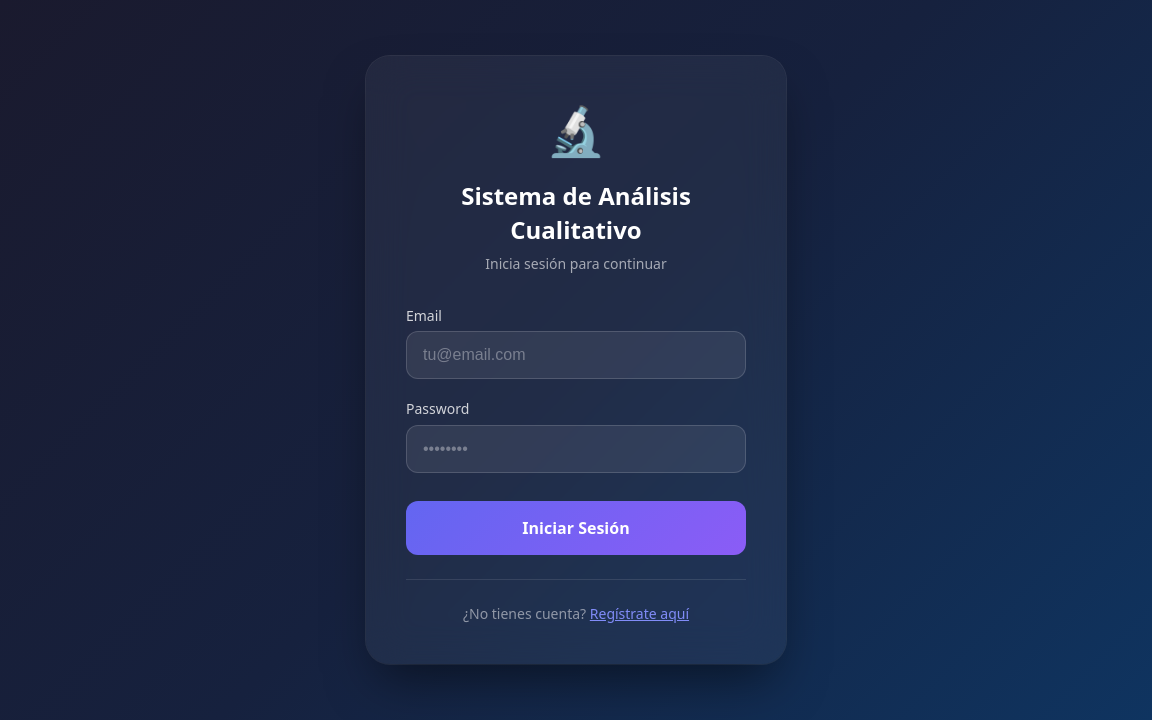
Test: AuthPage › prevents submission during loading
Type "test@example.com" into the field labelled "Email" at (576, 356), box [406, 332, 746, 380]
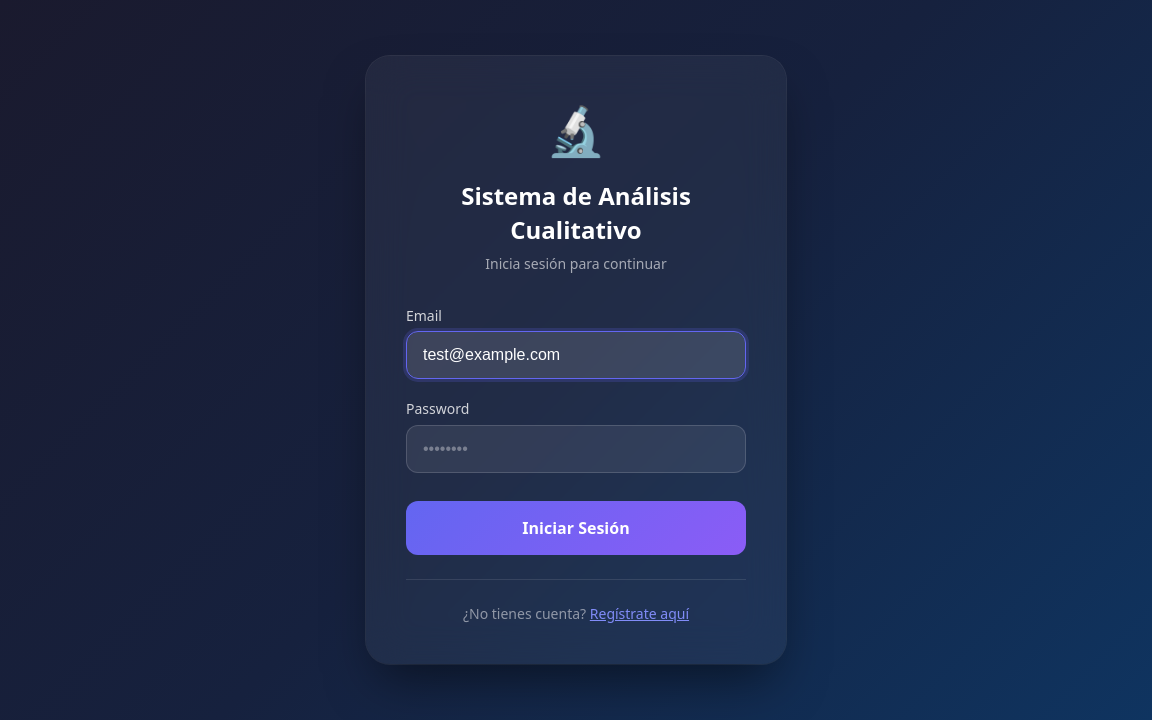
Type "password123" into the password field labelled "Password" at (576, 449), box [406, 425, 746, 473]
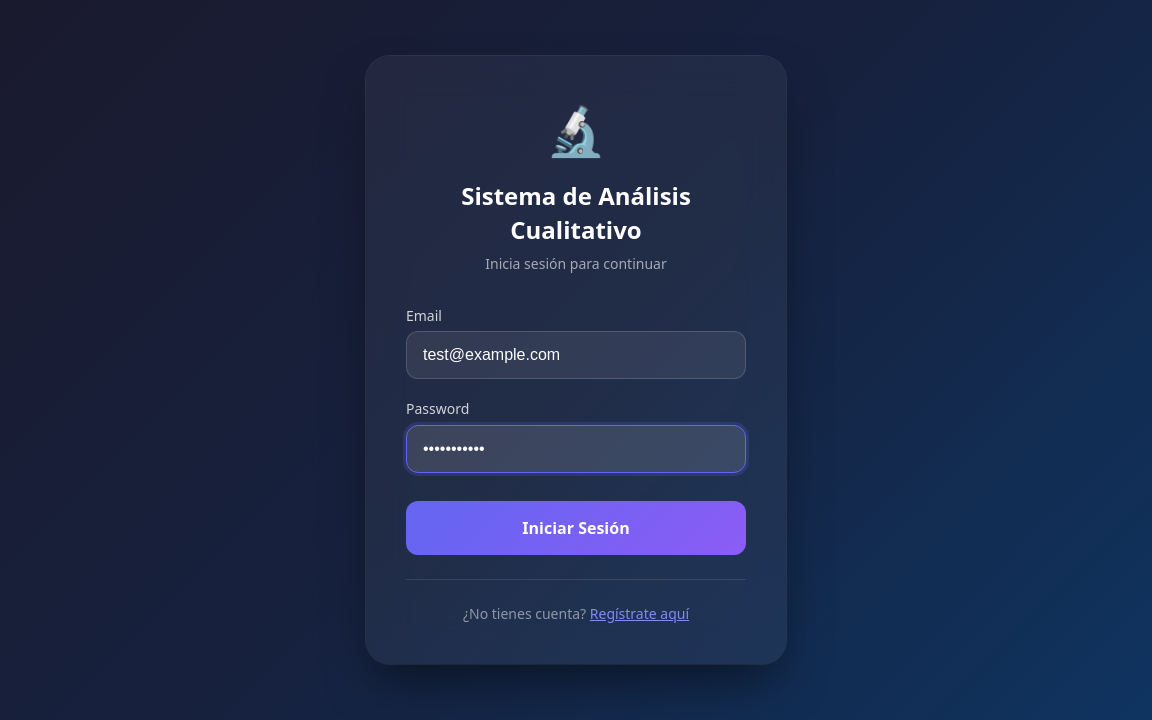
Click the button "Iniciar Sesión" at (576, 528), box [406, 501, 746, 556]
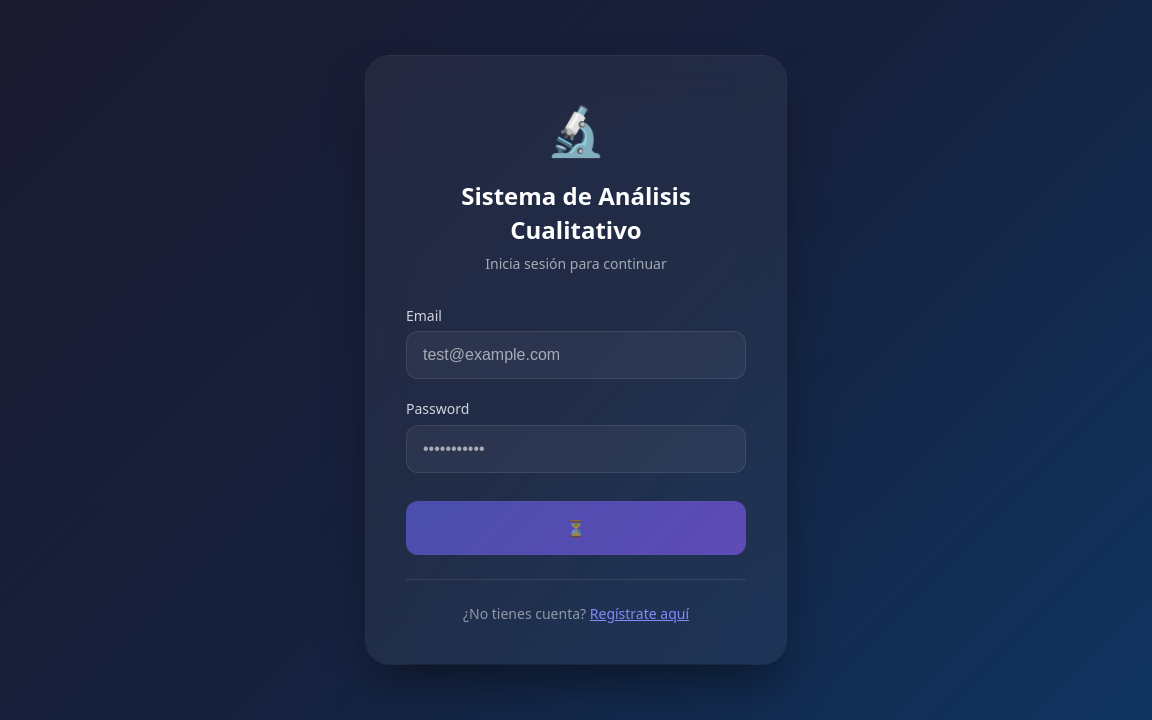
Expected: the button named "iniciar sesión" is disabled, [406, 501, 746, 556]
Expected: the text "⏳" is shown, [566, 517, 586, 540]
